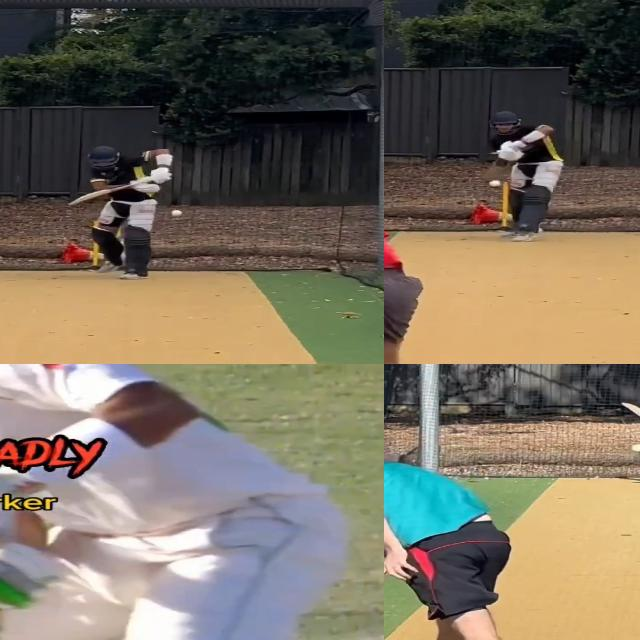Cricket ball: (488, 180, 503, 189), (169, 209, 184, 217), (629, 444, 640, 454)
